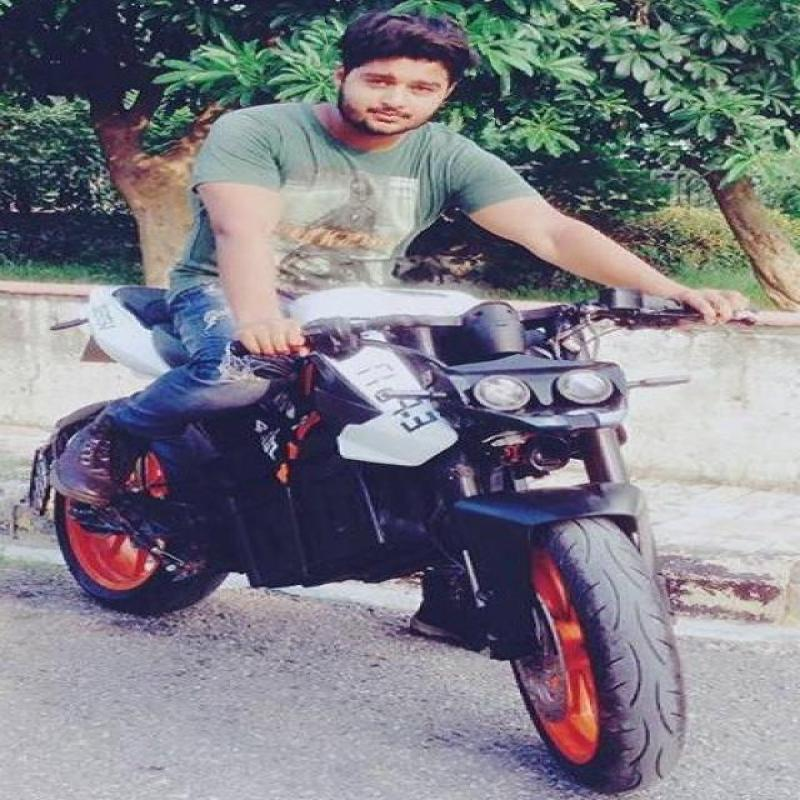nohelmet: (327, 4, 493, 136)
